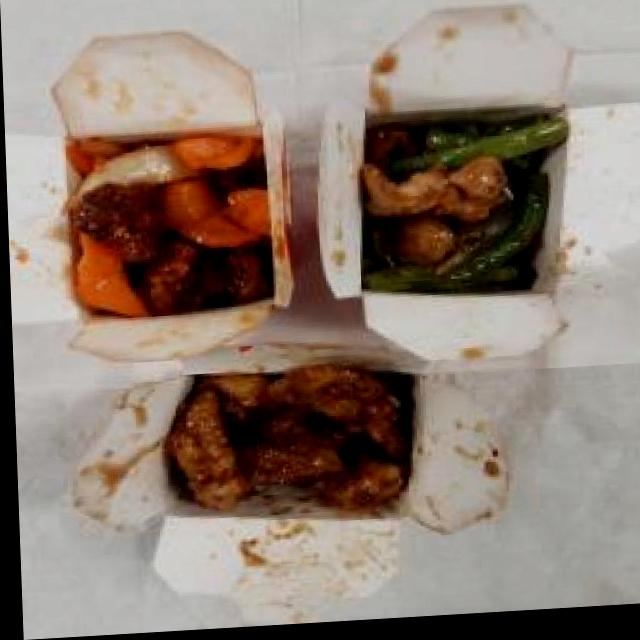Beijing Beef: (59, 133, 278, 327)
String Bean Chicken Breast: (347, 104, 567, 309)
The Original Orange Chicken: (163, 359, 415, 521)
